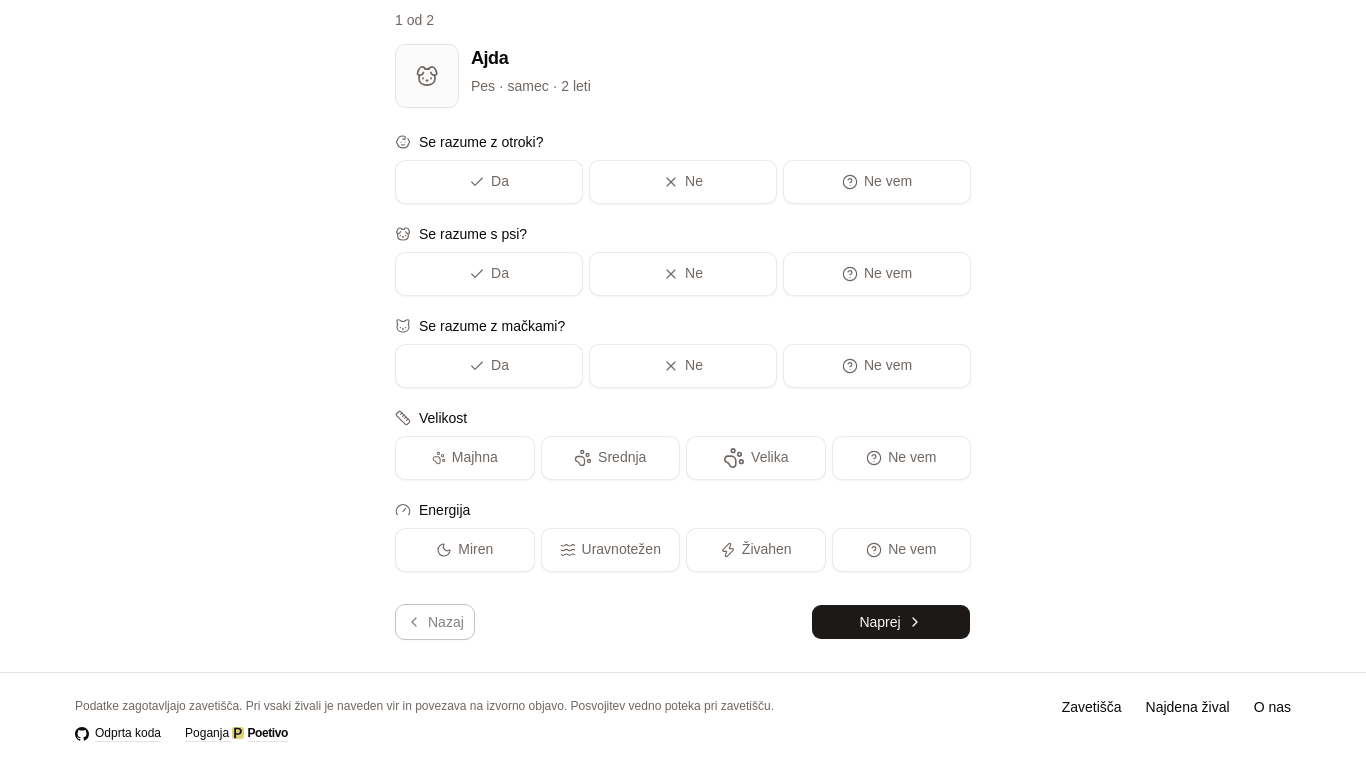
Test case: answers the public site already shows › asks only the animals still missing one, and counts them so
This screenshot has width=1366, height=768.
(page scrolled)
Expected: the heading "Ajda" is shown, [471,48,508,68]
Step 1. Click the button "Naprej" → (891, 622), box [811,604,971,640]
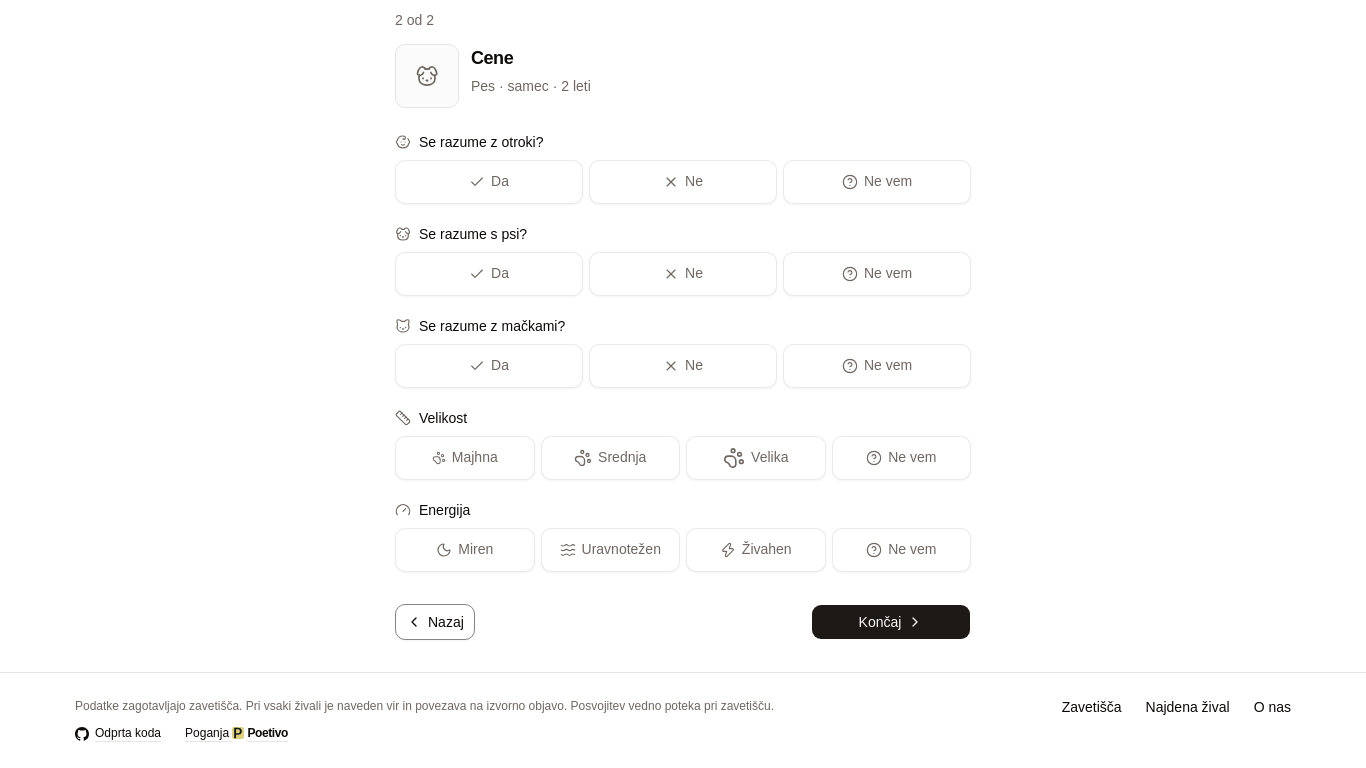
Result: the heading reads "Cene" at [471,48,513,68]
